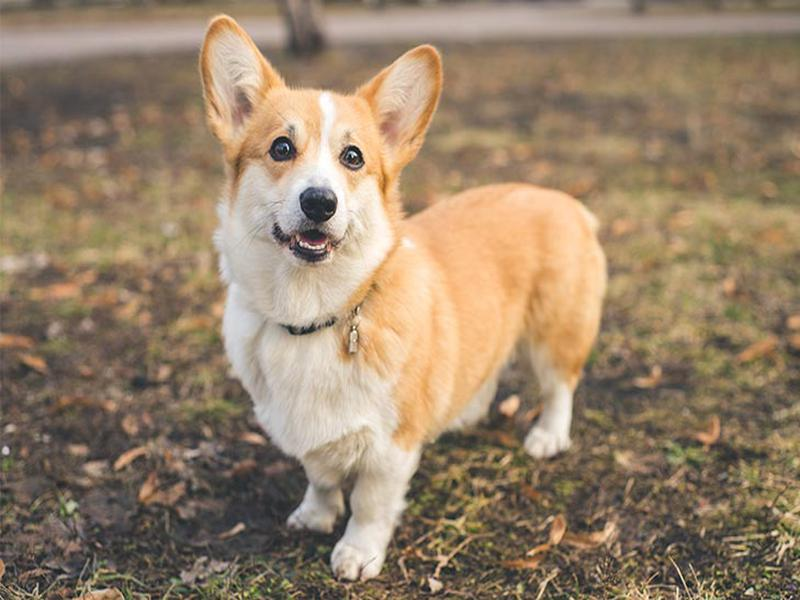dog_stand: (189, 10, 613, 583)
